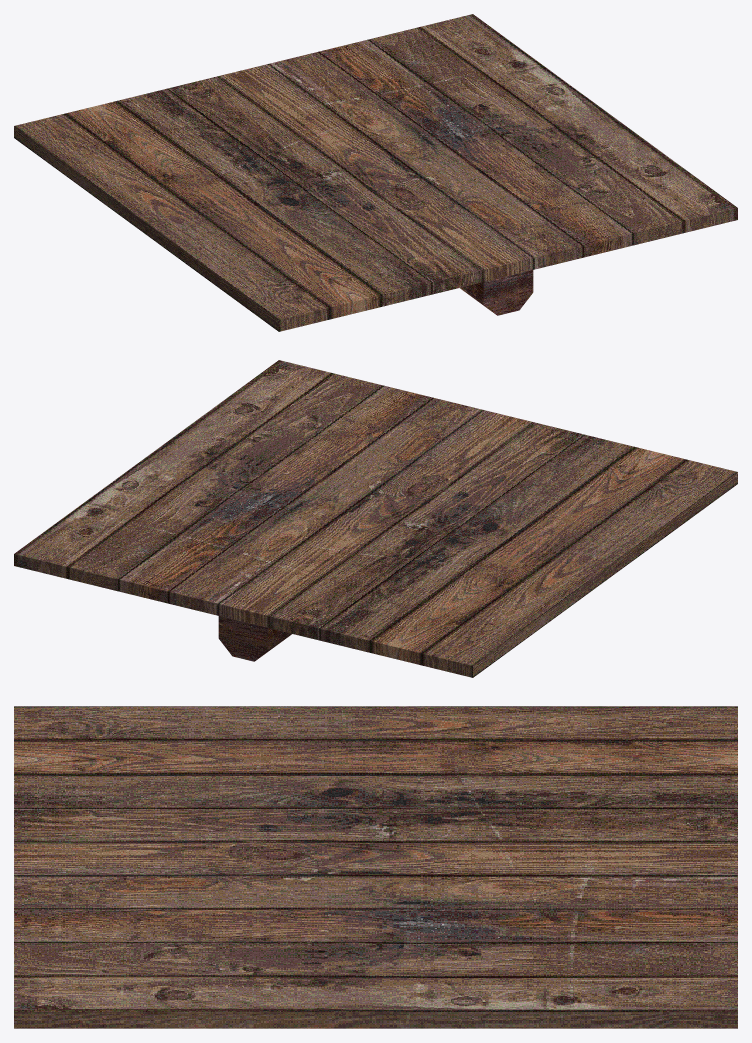
The model's file is ceiling-beam-M.glb.
3 renders of one model, top to bottom at view 1: azimuth 30°, elevation 25°; view 2: azimuth 150°, elevation 25°; view 3: azimuth 270°, elevation 25°, orthographic. The views are drawn at different scales.
Parts seen in each view (by area): view 1: ceiling-beam-M.001; view 2: ceiling-beam-M.001; view 3: ceiling-beam-M.001.
Boxes of the visible parts, left/top/right/bottom form: ceiling-beam-M.001: left=14, top=14, right=737, bottom=331; ceiling-beam-M.001: left=14, top=360, right=737, bottom=677; ceiling-beam-M.001: left=14, top=706, right=737, bottom=1028.
Bounding box in the file's own units: 2 × 0.2046 × 2.
2 materials, 2 textured.
